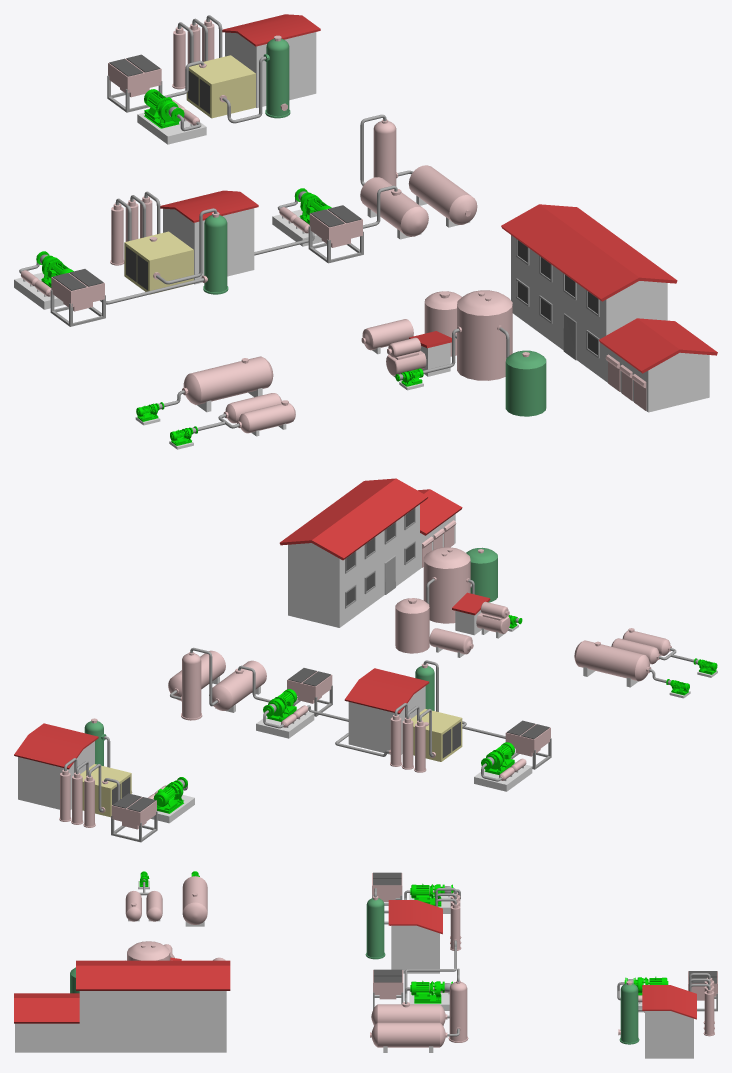
File: M_TBC.FBX
The picture shows the model from 3 angles, top to bottom: view 1: azimuth 30°, elevation 25°; view 2: azimuth 150°, elevation 25°; view 3: azimuth 270°, elevation 25°; orthographic projection. The views are drawn at different scales.
Visible parts, largest first — view 1: M_TBC, M_TBC_fangzi, M_TBC_shuiguan, M_TBC_bansheng, M_TBC_youguan; view 2: M_TBC, M_TBC_fangzi, M_TBC_shuiguan, M_TBC_bansheng, M_TBC_youguan; view 3: M_TBC_fangzi, M_TBC, M_TBC_bansheng, M_TBC_youguan, M_TBC_shuiguan.
Part boxes in pixels (x1,y1,x2,y2): M_TBC: (14, 14, 509, 449); M_TBC_fangzi: (501, 204, 717, 412); M_TBC_shuiguan: (361, 290, 546, 416); M_TBC_bansheng: (360, 119, 477, 239); M_TBC_youguan: (182, 356, 295, 436); M_TBC: (14, 578, 717, 842); M_TBC_fangzi: (279, 478, 462, 627); M_TBC_shuiguan: (395, 547, 510, 657); M_TBC_bansheng: (168, 650, 266, 720); M_TBC_youguan: (574, 628, 671, 687); M_TBC_fangzi: (14, 960, 230, 1052); M_TBC: (138, 871, 717, 1058); M_TBC_bansheng: (370, 980, 468, 1052); M_TBC_youguan: (125, 876, 207, 926); M_TBC_shuiguan: (70, 941, 225, 993).
Size of the model in its own units: 3342 by 734 by 5590.
